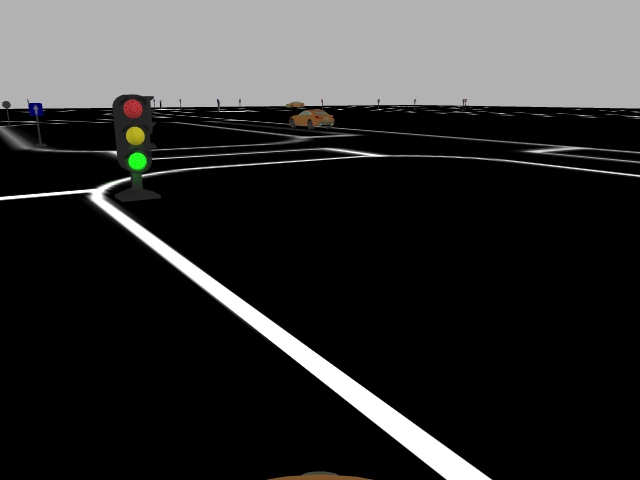green_light: (114, 92, 155, 180)
oneway: (26, 102, 44, 118)
